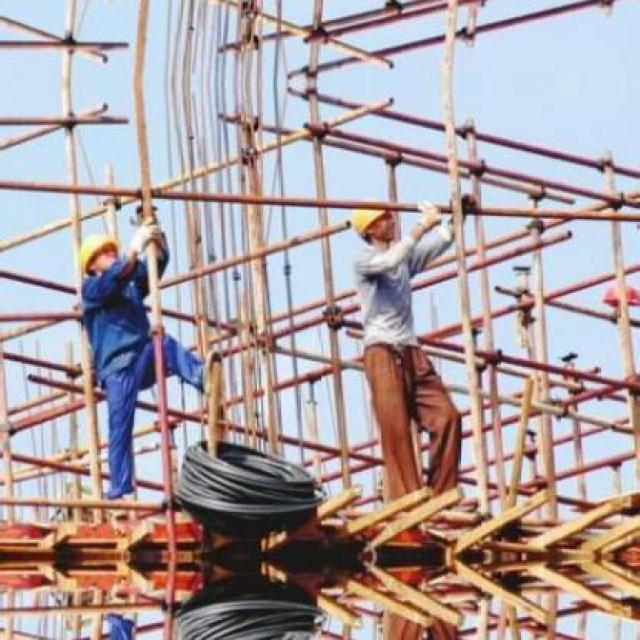helmet: (343, 202, 399, 241), (78, 231, 122, 276)
